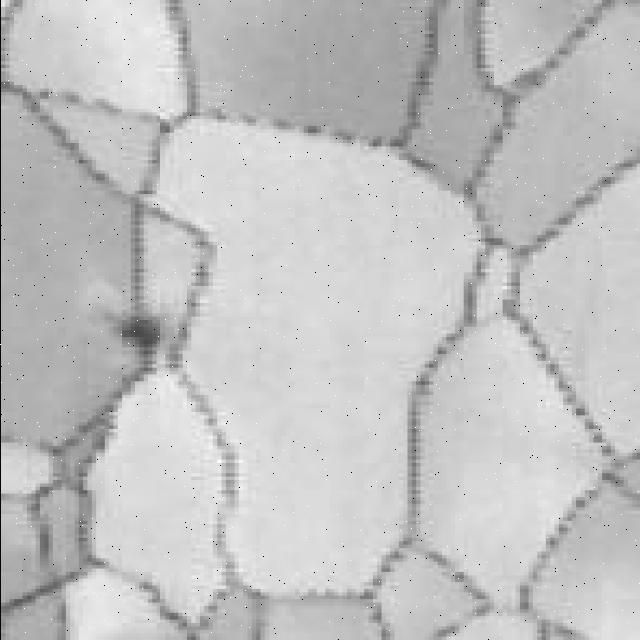good_void: (118, 313, 166, 353)
